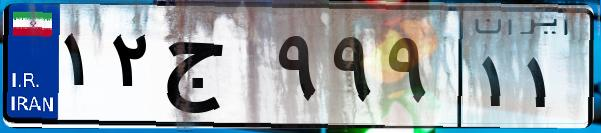1: (57, 26, 110, 100), (475, 38, 525, 113), (525, 38, 570, 115)
2: (110, 28, 158, 98)
9: (270, 28, 330, 110), (385, 28, 445, 110), (330, 28, 385, 110)
ج: (158, 20, 270, 120)
